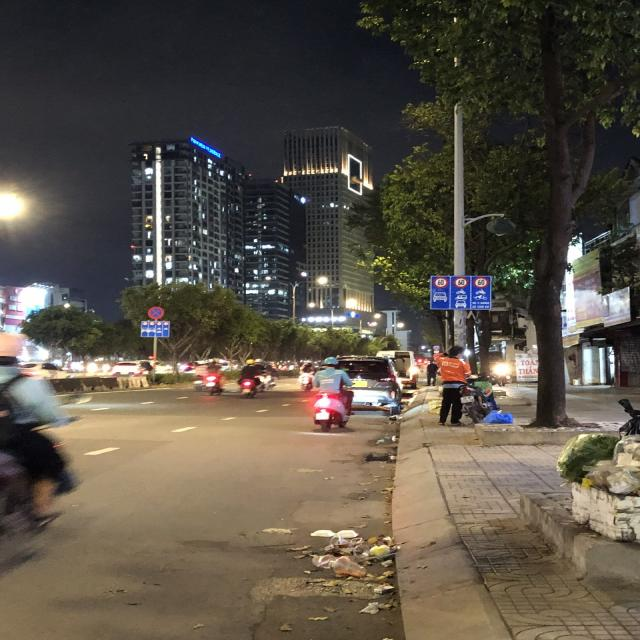Bien bao cam dung xe va do xe: (146, 304, 166, 320), (431, 274, 450, 288)
Bien bao toc do toi da cho phep: (473, 274, 489, 290), (452, 275, 470, 288)
